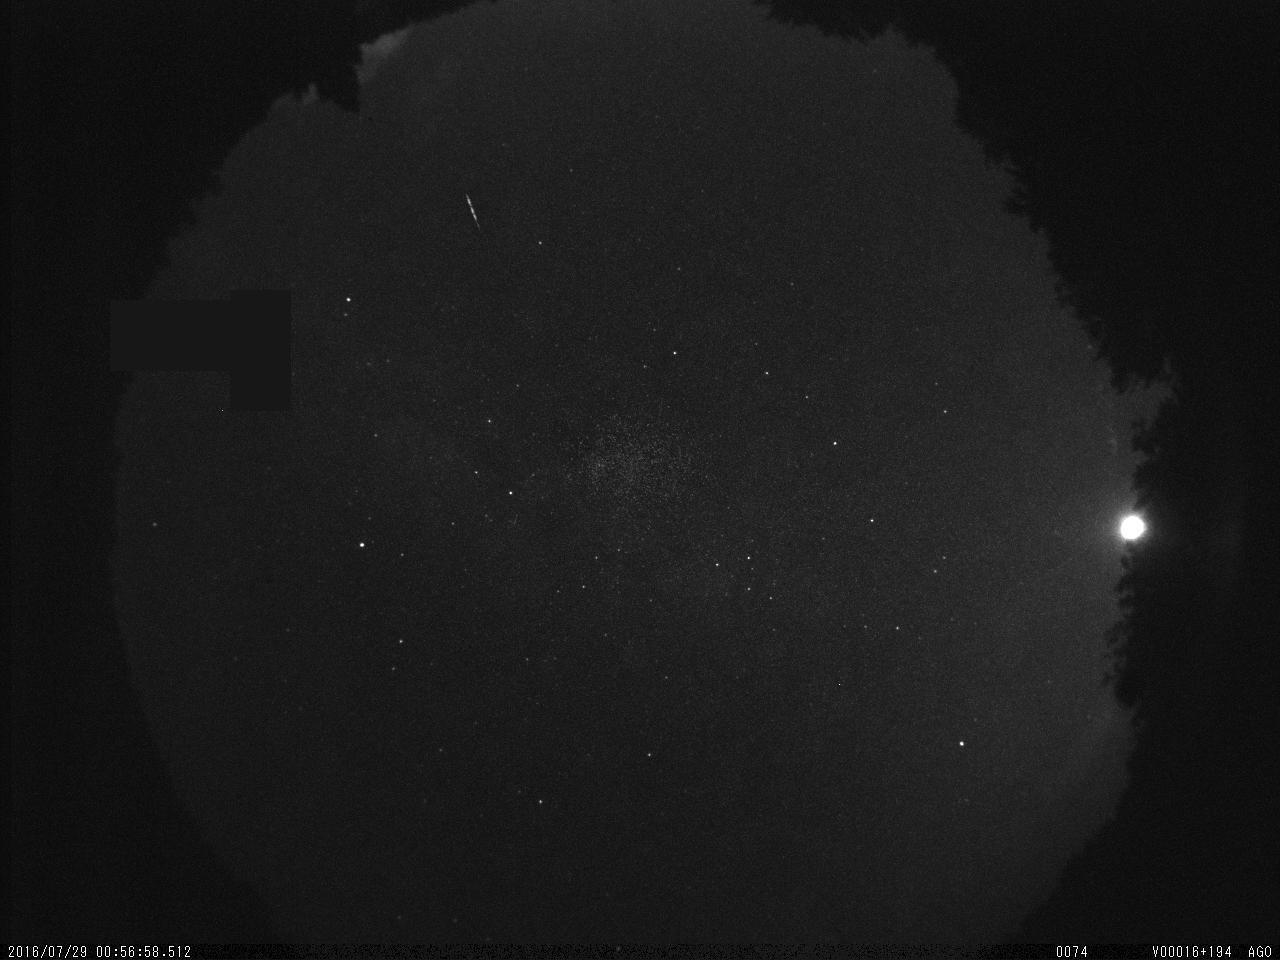Meteor: (462, 181, 482, 237)
